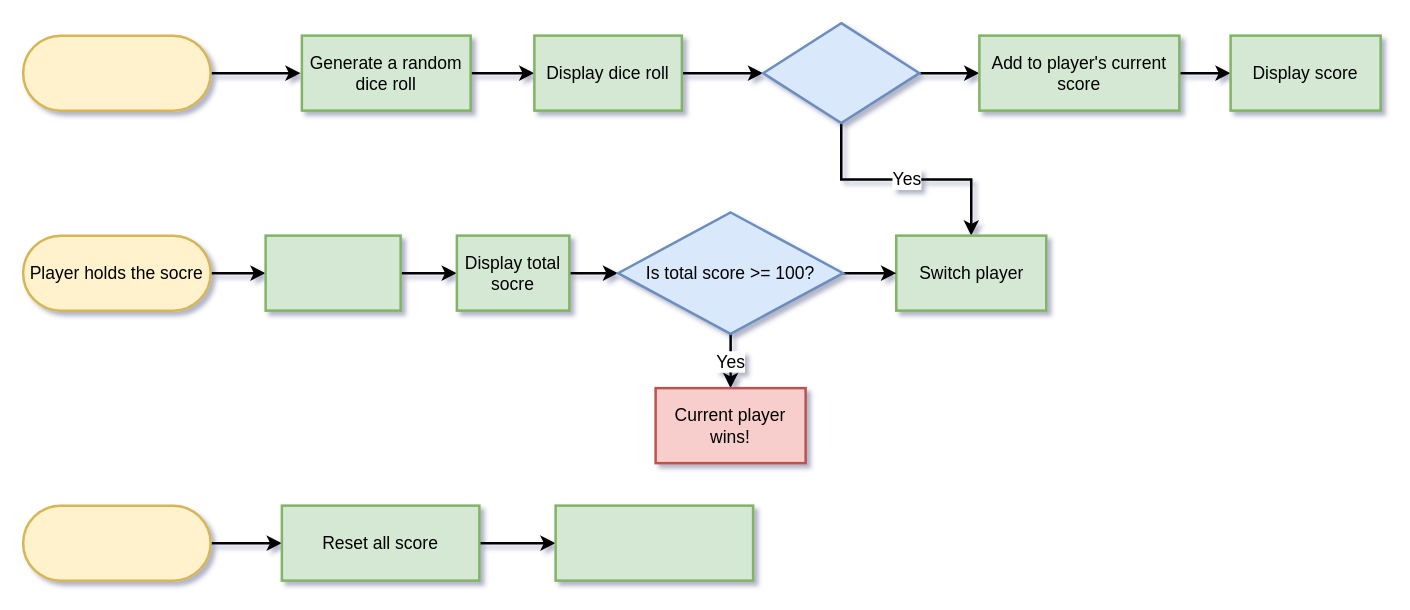
Some shapes in this 1410 by 610 pixel diagram are drawn without their labels. The shapes that lost their labels are listed below. From the top down, each one's centre as x and y in pixels, then its label:
[116,72]: Player rolls a dice
[840,72]: Is it 1?
[332,272]: Add score to total score
[116,542]: New game clicked
[654,542]: Switch to player 1
